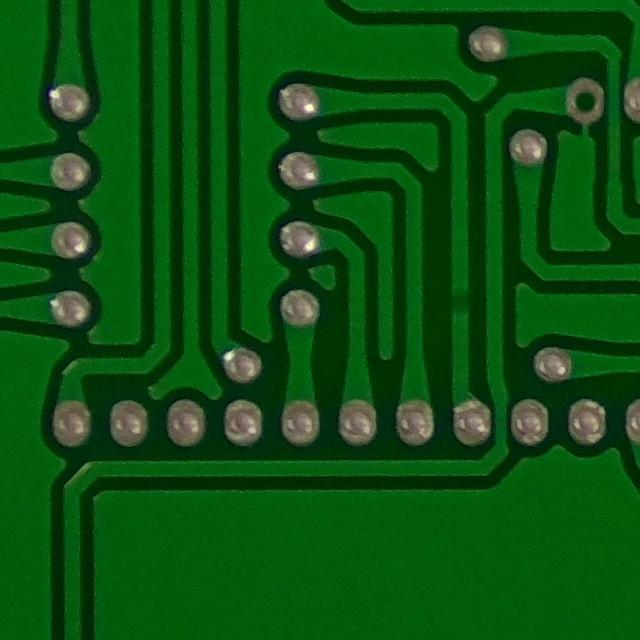missing_hole: (554, 69, 610, 123)
